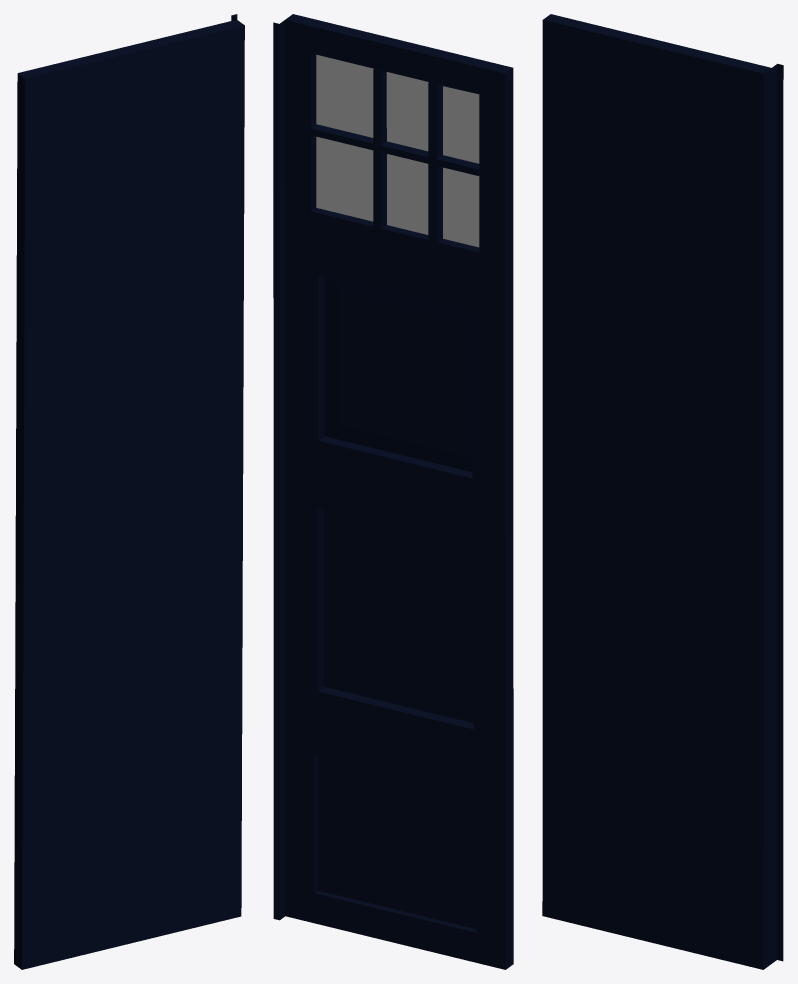
The model's file is tardis_door_right.obj.
The picture shows the model from 3 angles, left to right: view 1: azimuth 30°, elevation 25°; view 2: azimuth 150°, elevation 25°; view 3: azimuth 330°, elevation 25°; orthographic projection.
Parts seen in each view (by area): view 1: Exterior.002_Cube.004; view 2: Exterior.002_Cube.004; view 3: Exterior.002_Cube.004.
Boxes of the visible parts, x1,y1,x2,y2 form: Exterior.002_Cube.004: (14,14,244,969); Exterior.002_Cube.004: (273,14,513,969); Exterior.002_Cube.004: (542,14,783,969).
Bounding box in the file's own units: 0.8294 × 3.11 × 0.0954.
